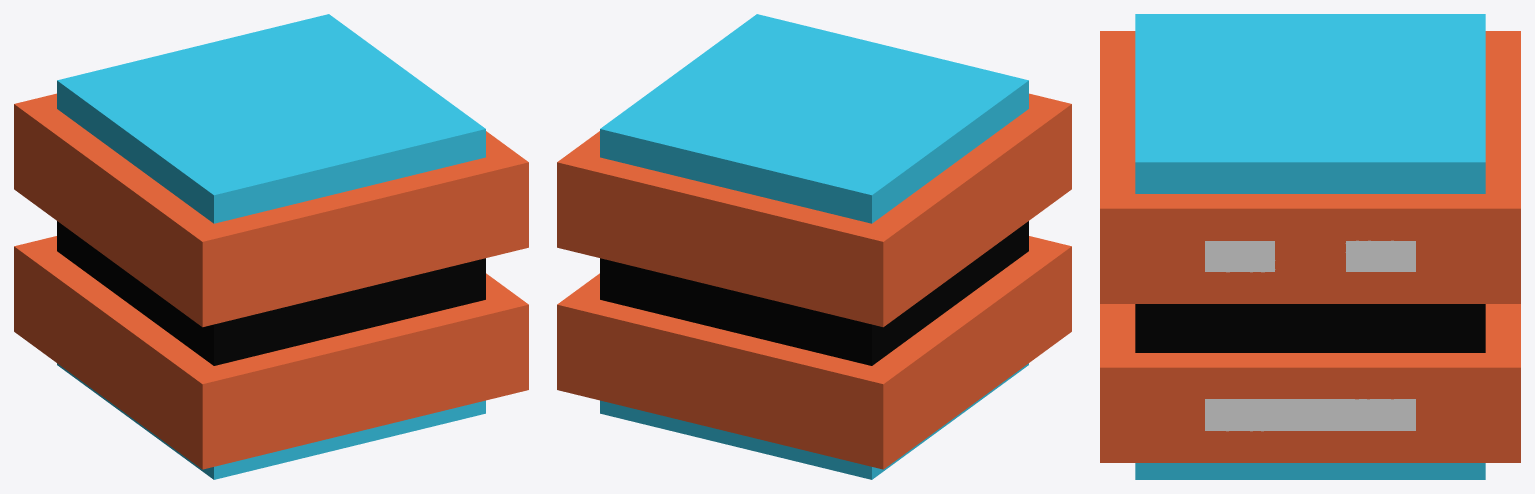
The model's file is Zack.fbx.
The picture shows the model from 3 angles, left to right: view 1: azimuth 30°, elevation 25°; view 2: azimuth 150°, elevation 25°; view 3: azimuth 270°, elevation 25°; orthographic projection. The views are drawn at different scales.
Visible parts, largest first — view 1: Zack; view 2: Zack; view 3: Zack.
Boxes of the visible parts, <box> form: Zack: <box>14,14,528,479</box>; Zack: <box>557,14,1071,479</box>; Zack: <box>1100,14,1520,479</box>.
Size of the model in its own units: 12 by 10 by 12.
1 material, 1 textured.
